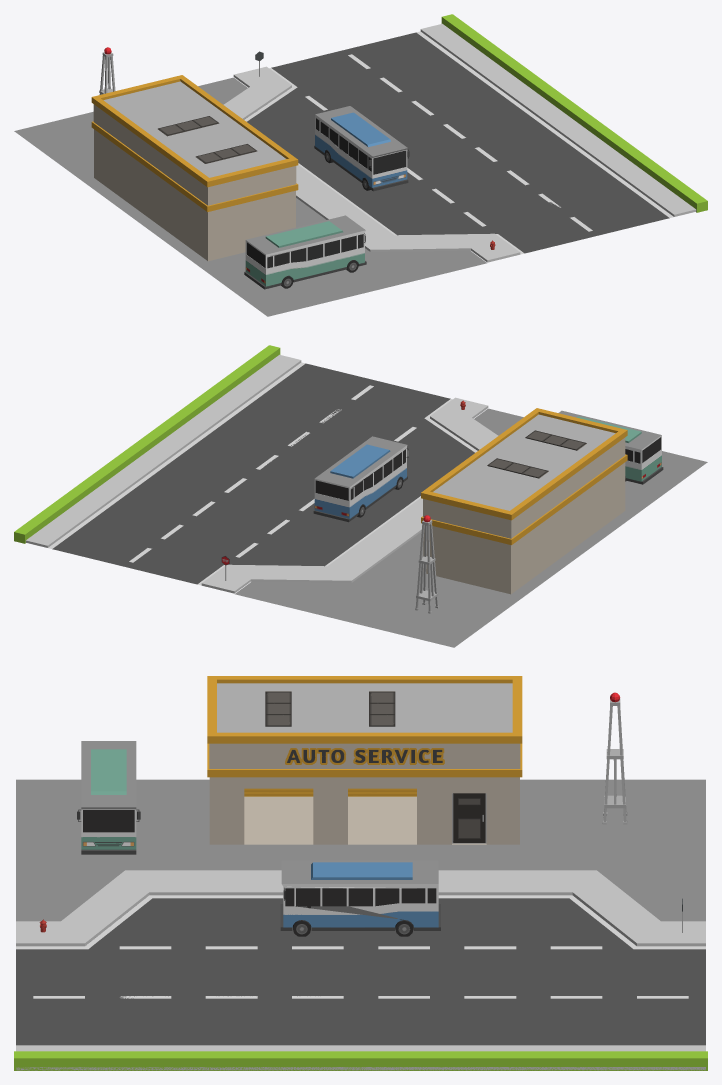
The model's file is bus.glb.
The picture shows the model from 3 angles, top to bottom: view 1: azimuth 30°, elevation 25°; view 2: azimuth 150°, elevation 25°; view 3: azimuth 270°, elevation 25°; orthographic projection. The views are drawn at different scales.
Parts seen in each view (by area): view 1: Road Lane Bus Stop_Plane.015; view 2: Road Lane Bus Stop_Plane.015; view 3: Road Lane Bus Stop_Plane.015.
Boxes of the visible parts, box(x1,y1,x2,y2) form: Road Lane Bus Stop_Plane.015: box(14, 14, 707, 316); Road Lane Bus Stop_Plane.015: box(14, 345, 707, 647); Road Lane Bus Stop_Plane.015: box(14, 676, 707, 1070).
Size of the model in its own units: 40 by 8.11 by 40.25.
Materials: 9 (9 with a texture image).
